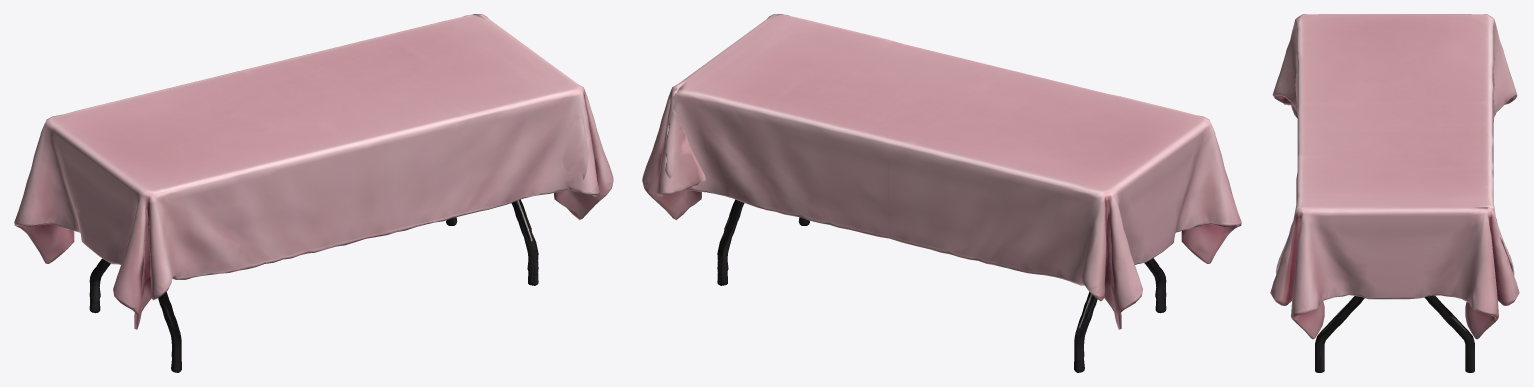
Rendered from BNQ_TBLE_BLSH_PINK_LI_0630194119_texture.glb.
The picture shows the model from 3 angles, left to right: view 1: azimuth 30°, elevation 25°; view 2: azimuth 150°, elevation 25°; view 3: azimuth 270°, elevation 25°; orthographic projection. The views are drawn at different scales.
Visible parts, largest first — view 1: Mesh_0.004; view 2: Mesh_0.004; view 3: Mesh_0.004.
Boxes of the visible parts, left/top/right/bottom form: Mesh_0.004: left=14, top=14, right=613, bottom=372; Mesh_0.004: left=642, top=14, right=1241, bottom=372; Mesh_0.004: left=1270, top=14, right=1519, bottom=372.
Bounding box in the file's own units: 2.03 × 0.762 × 0.9535.
1 material, 1 textured.
